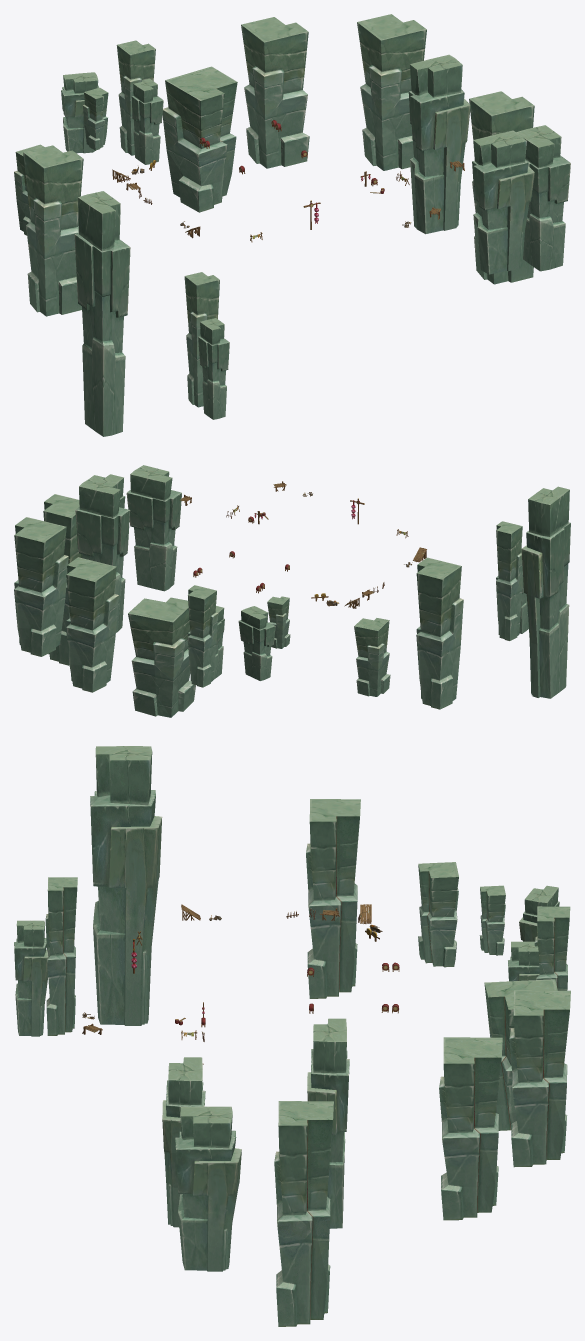
The model's file is wujian01b.FBX.
The picture shows the model from 3 angles, top to bottom: view 1: azimuth 30°, elevation 25°; view 2: azimuth 150°, elevation 25°; view 3: azimuth 270°, elevation 25°; orthographic projection. The views are drawn at different scales.
Parts seen in each view (by area): view 1: Object160; view 2: Object160; view 3: Object160.
Boxes of the visible parts, x1,y1,x2,y2 form: Object160: [14, 14, 570, 436]; Object160: [14, 465, 570, 717]; Object160: [14, 746, 570, 1326].
Size of the model in its own units: 6700 by 3048 by 5345.
